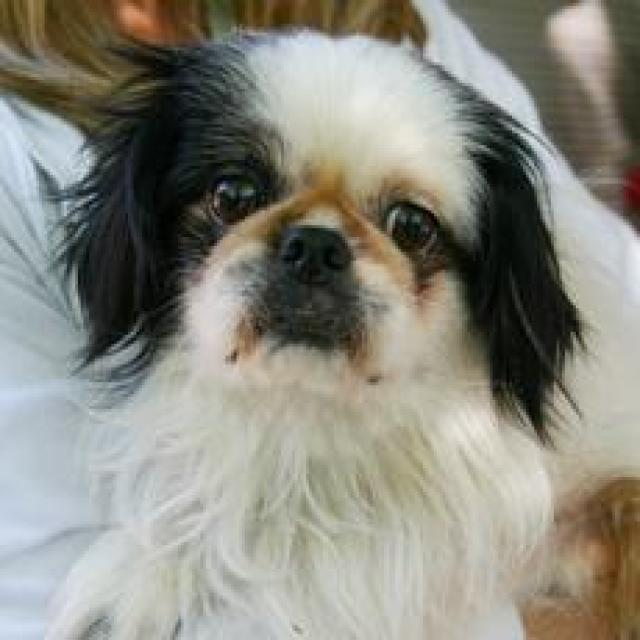husky: (53, 24, 590, 637)
